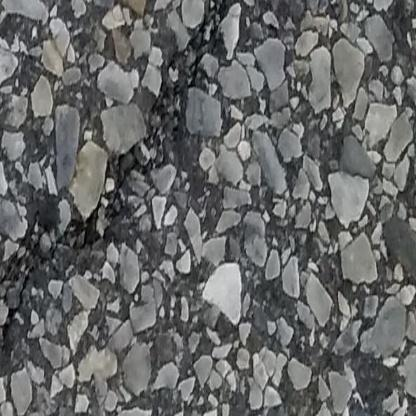Cracks: (0, 0, 247, 389)
